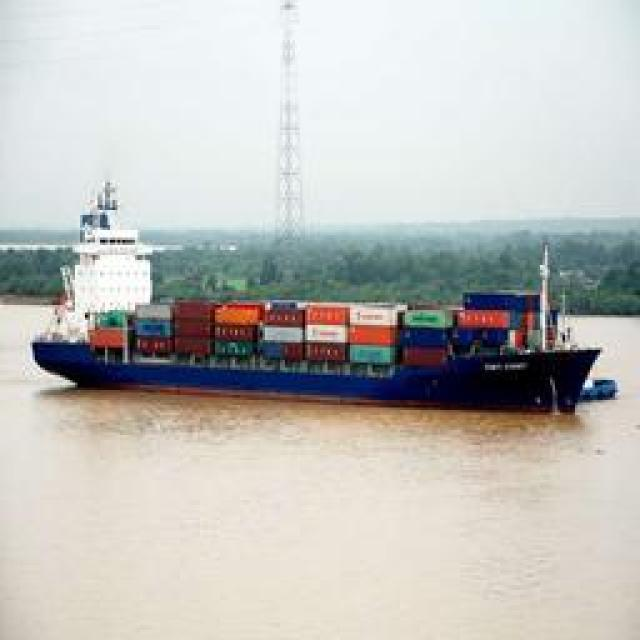CIV_Ship: (30, 250, 618, 412)
